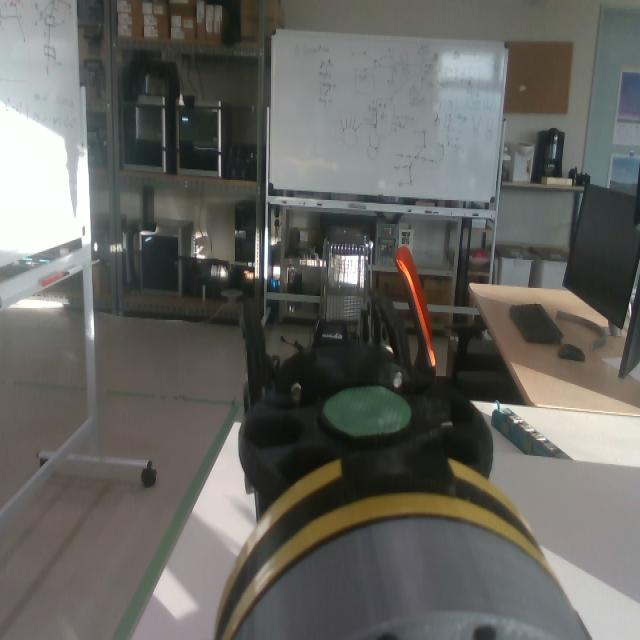body_connector: (230, 520, 589, 640)
connection: (212, 456, 591, 640)
leg: (213, 287, 546, 640)
leg_connector: (211, 449, 549, 640)
marker: (322, 385, 413, 437)
